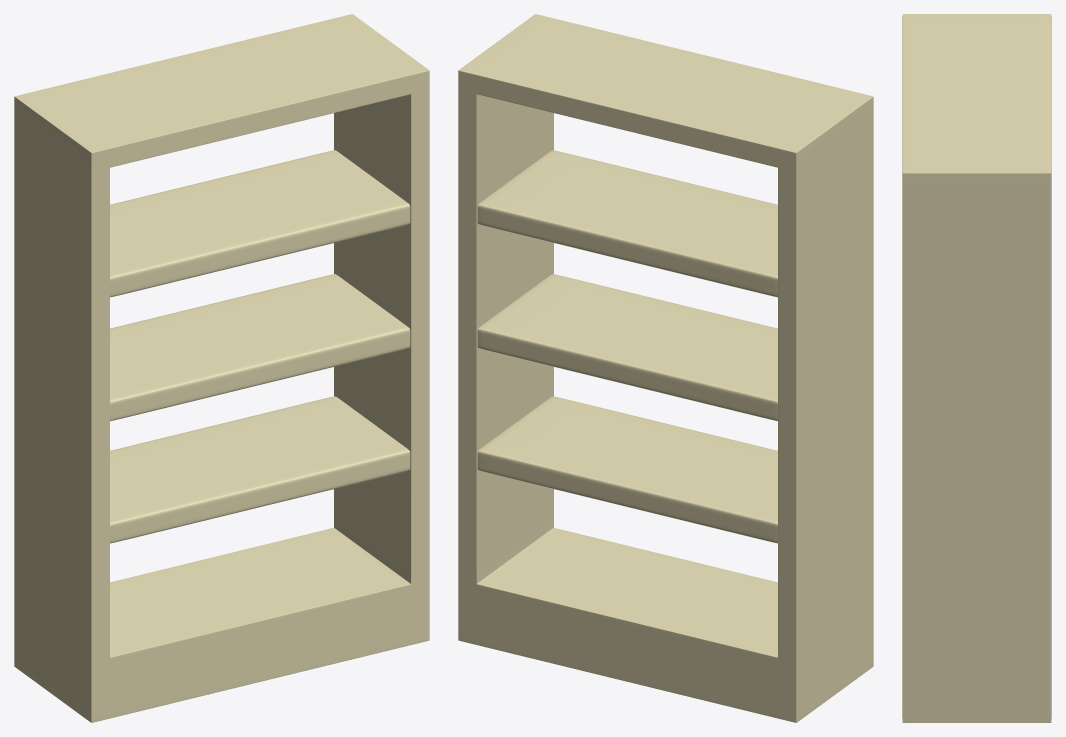
The model's file is kitchen_pantry.fbx.
3 renders of one model, left to right at view 1: azimuth 30°, elevation 25°; view 2: azimuth 150°, elevation 25°; view 3: azimuth 270°, elevation 25°, orthographic. The views are drawn at different scales.
Parts seen in each view (by area): view 1: pantry; view 2: pantry; view 3: pantry.
Part boxes in pixels (x1=…): pantry: x1=14, y1=14, x2=429, y2=722; pantry: x1=458, y1=14, x2=873, y2=722; pantry: x1=902, y1=14, x2=1051, y2=722.
Bounding box in the file's own units: 14.45 × 23.28 × 5.71.
